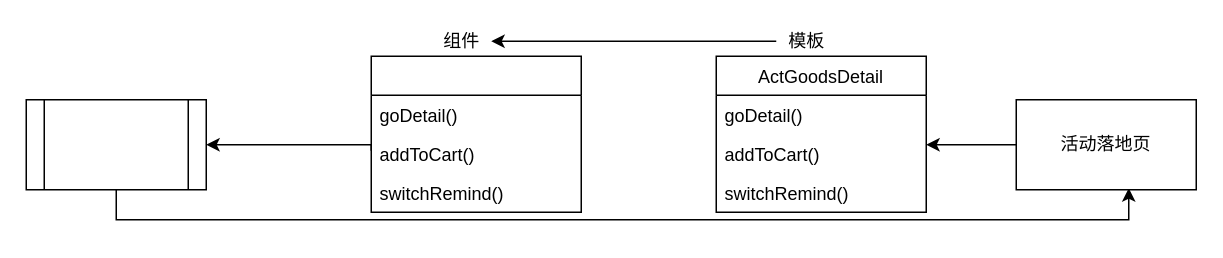
This 1223x258 diagram has some shape labels left out. Here are the shapes that lost their labels. From the top down, the box of each, then its label:
(25, 98, 206, 190): goodsList
(370, 55, 581, 212): ActGoodsList
